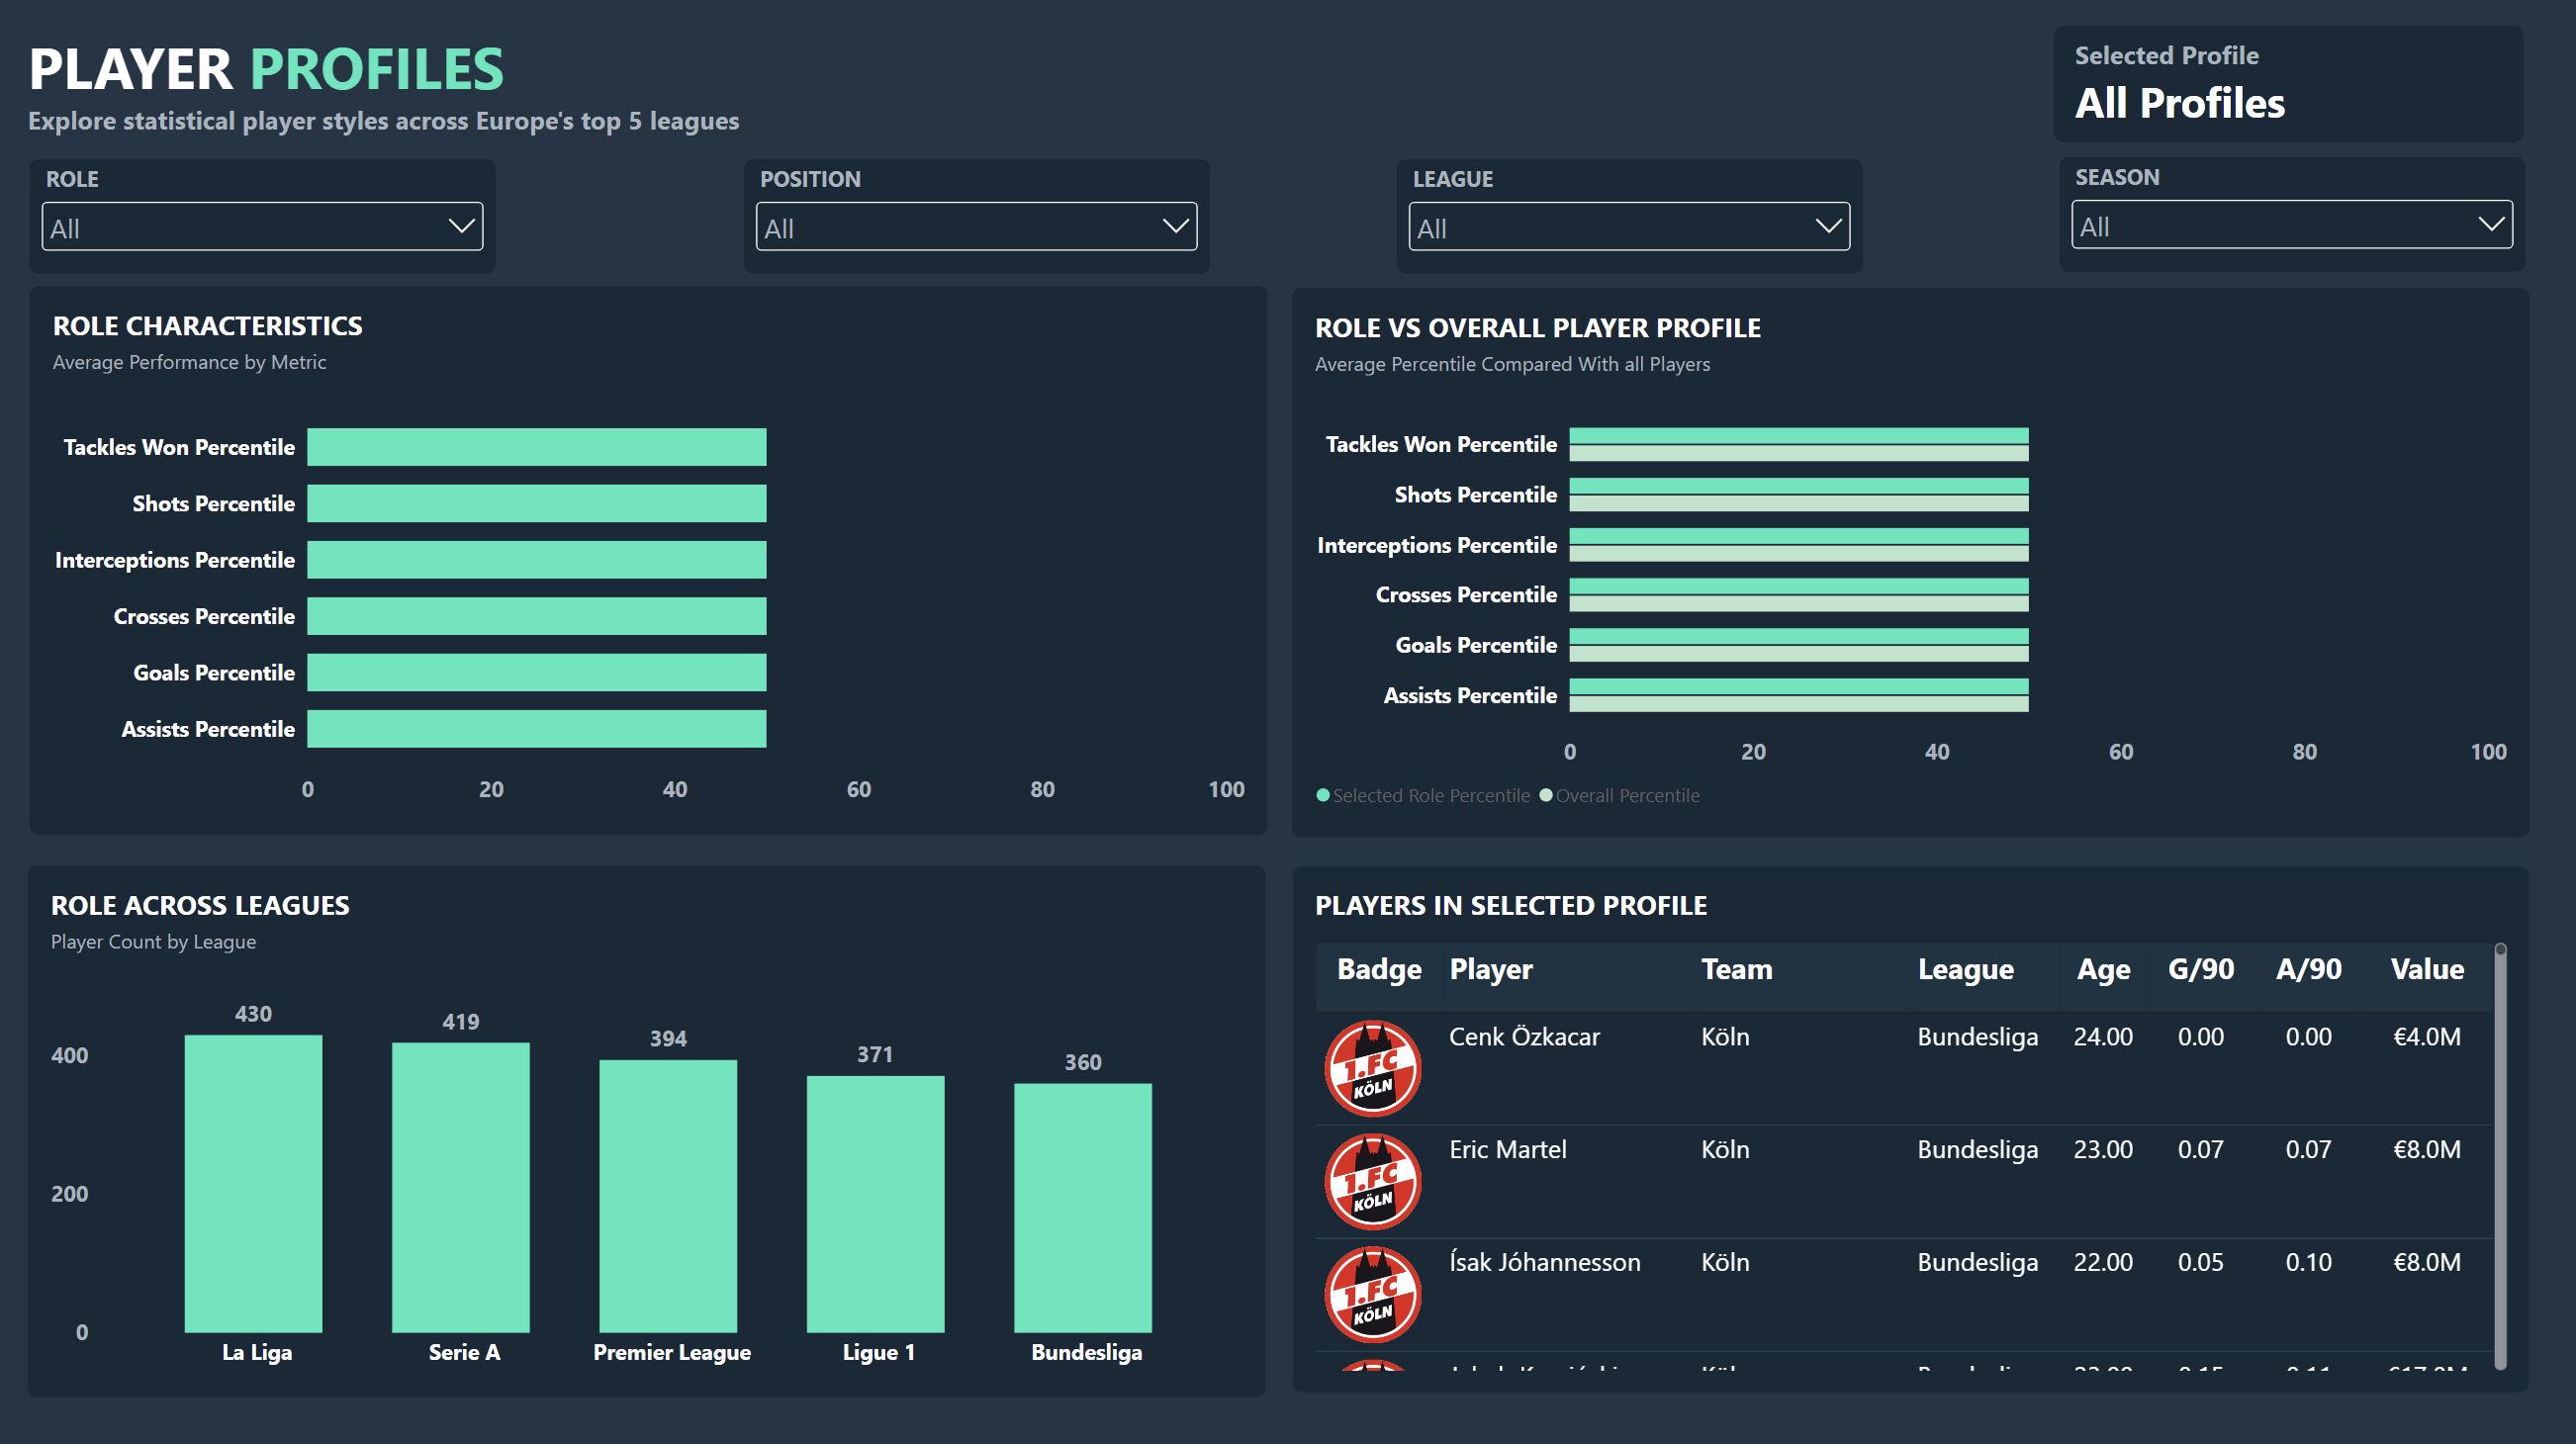

The dashboard page shown, as its layout file describes it:
{"tool":"powerbi","page":{"name":"Player Profiles","canvas":[1920,1080],"ordinal":1},"visuals":[{"type":"textbox","box":[23.4,23.4,1876.5,86.9],"z":0},{"type":"slicer","fields":{"Values":["Seasons.Position Group"]},"box":[555.2,121.2,346,85],"z":1000},{"type":"slicer","fields":{"Values":["Profiles.Role Short"]},"box":[24.2,121.2,346,85],"z":2000},{"type":"slicer","fields":{"Values":["Profiles.League"]},"box":[1040,121.2,346,85],"z":3000},{"type":"clusteredBarChart","title":"ROLE CHARACTERISTICS","fields":{"Category":["Profile Percentile.Stat"],"Y":["Avg(Profile Percentile.Percentile)"]},"box":[24.2,216,919,408],"z":5000},{"type":"clusteredBarChart","title":"ROLE VS OVERALL PLAYER PROFILE","fields":{"Category":["Profile Percentile.Stat"],"Y":["Profile Percentile.Selected Role Percentile","Profile Percentile.Overall Percentile"]},"box":[962.5,217.5,919,408],"z":6000},{"type":"cardVisual","fields":{"Data":["Profiles.Selected Profile"]},"box":[1527.5,20,349.1,89.7],"z":7000},{"type":"clusteredColumnChart","title":"ROLE ACROSS LEAGUES","fields":{"Category":["Profiles.League"],"Y":["Count(Profiles.Player)"]},"box":[23.4,646.8,919,395.1],"z":8000},{"type":"tableEx","title":"PLAYERS IN SELECTED PROFILE","fields":{"Values":["Profiles.badge_url","Profiles.Player","Profiles.Team","Profiles.League","Profiles.Age","Profiles.Goals per 90","Profiles.Assists per 90","Profiles.Value (EURm)"]},"box":[962.9,646.8,919,392.2],"z":9000},{"type":"slicer","fields":{"Values":["Seasons.Season"]},"box":[1531.8,120.7,346,85],"z":10000}]}

Visuals, with their boxes in screenshot pixels (x1, y1, x2, y2), scaled from the page's 1920x1080 canvas onto the 2576x1444 screenshot:
textbox: [32,32,2549,147]
slicer - Seasons.Position Group: [745,162,1209,276]
slicer - Profiles.Role Short: [33,162,497,276]
slicer - Profiles.League: [1395,162,1860,276]
"ROLE CHARACTERISTICS" clusteredBarChart: [33,289,1265,835]
"ROLE VS OVERALL PLAYER PROFILE" clusteredBarChart: [1291,291,2525,837]
cardVisual - Profiles.Selected Profile: [2050,27,2518,146]
"ROLE ACROSS LEAGUES" clusteredColumnChart: [32,864,1264,1393]
"PLAYERS IN SELECTED PROFILE" tableEx: [1292,864,2525,1390]
slicer - Seasons.Season: [2056,161,2520,275]
